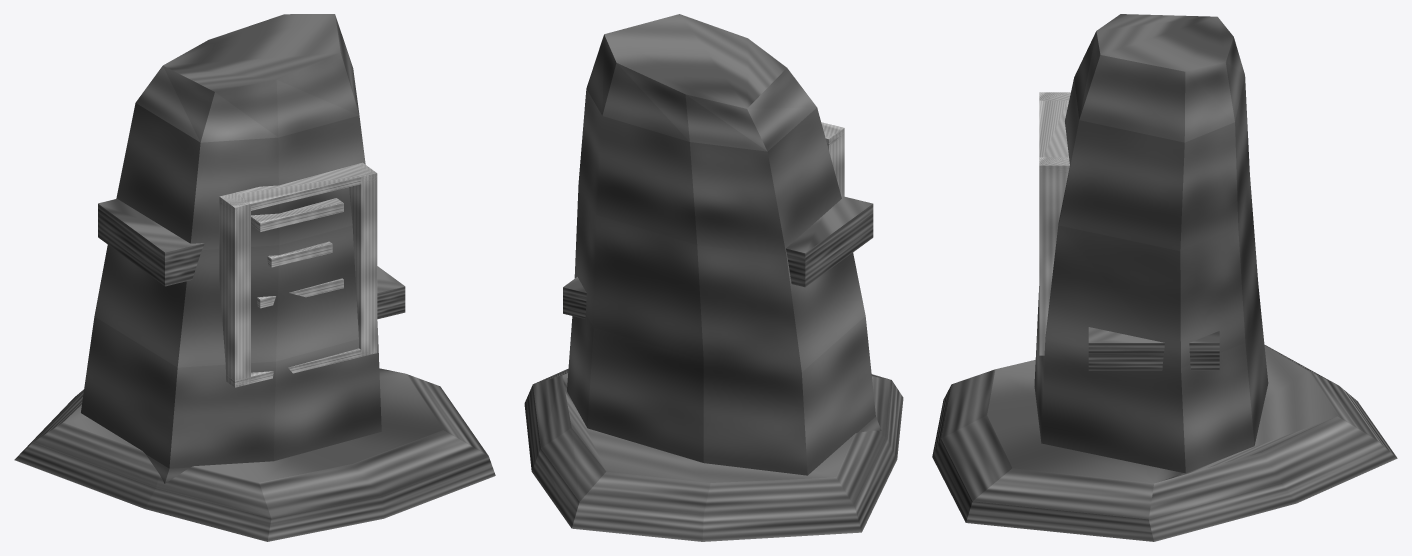
File: underworld-standing-stone.glb
The picture shows the model from 3 angles, left to right: view 1: azimuth 30°, elevation 25°; view 2: azimuth 150°, elevation 25°; view 3: azimuth 270°, elevation 25°; orthographic projection. The views are drawn at different scales.
Parts seen in each view (by area): view 1: underworld-standing-stone; view 2: underworld-standing-stone; view 3: underworld-standing-stone.
Boxes of the visible parts, left/top/right/bottom form: underworld-standing-stone: left=14, top=14, right=495, bottom=541; underworld-standing-stone: left=524, top=14, right=903, bottom=541; underworld-standing-stone: left=932, top=14, right=1397, bottom=541.
Size of the model in its own units: 1 by 1 by 1.
1 material, 1 textured.
